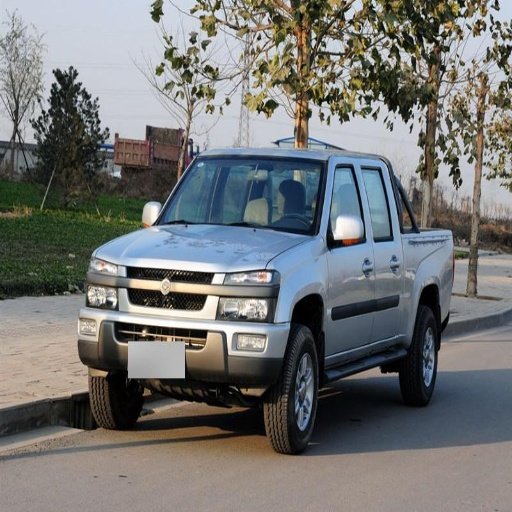back_glass: (358, 163, 409, 347)
back_right_light: (77, 262, 289, 408)
front_bumper: (153, 158, 326, 235)
front_glass: (326, 161, 373, 357)
front_left_door: (220, 266, 277, 319)
front_right_light: (98, 224, 309, 272)
tailgate: (406, 231, 460, 316)
trunk: (264, 327, 318, 452), (400, 308, 438, 406), (87, 373, 140, 428)
